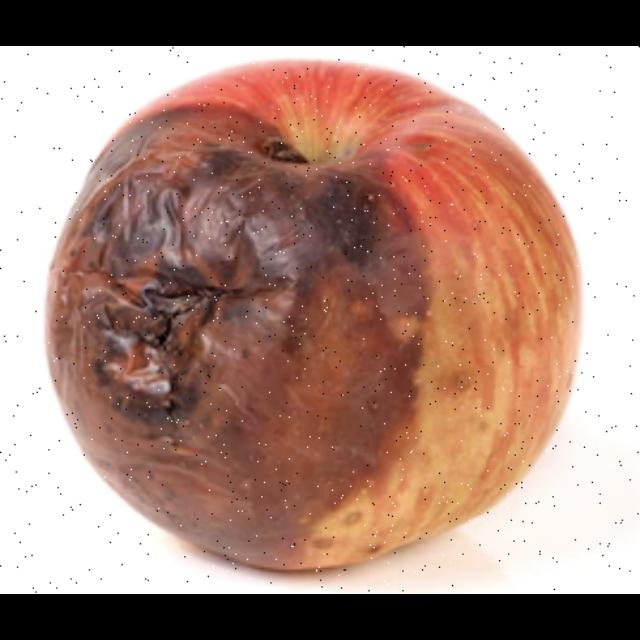Apel Tidak Segar: (11, 56, 611, 582)
